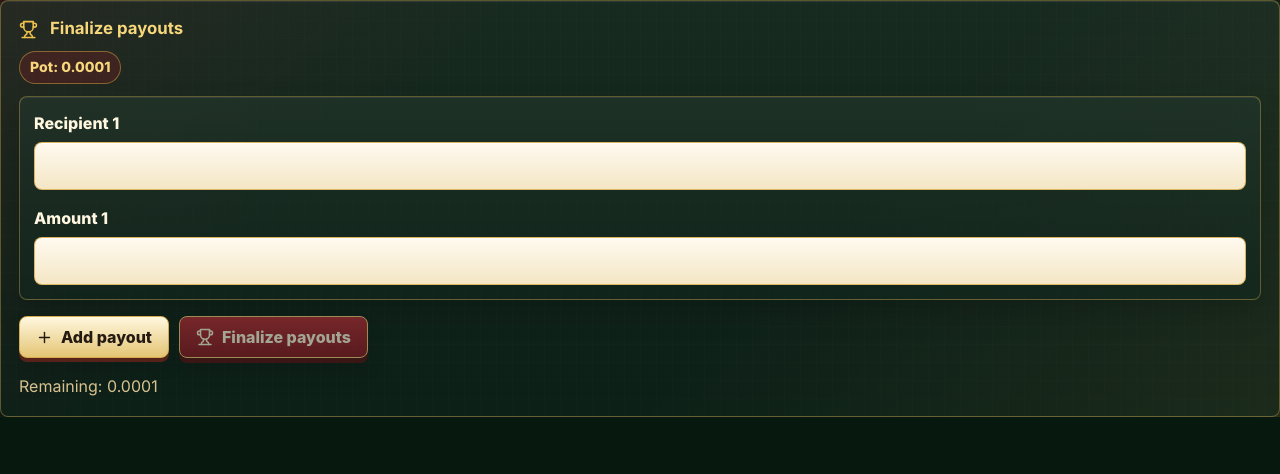
Scenario: FinalizeForm › shows an error when an ENS payout recipient cannot be resolved
Step 1. Type "missing.eth" into the field labelled "Recipient 1" → (640, 166), box [34, 142, 1246, 190]
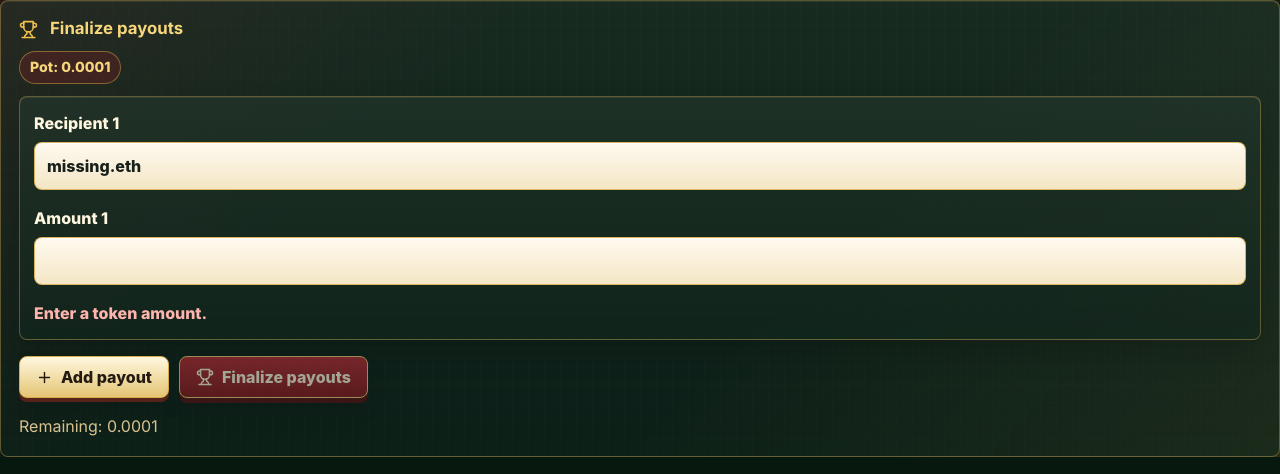
Step 2. Type "0.0001" into the field labelled "Amount 1" → (640, 261), box [34, 237, 1246, 285]
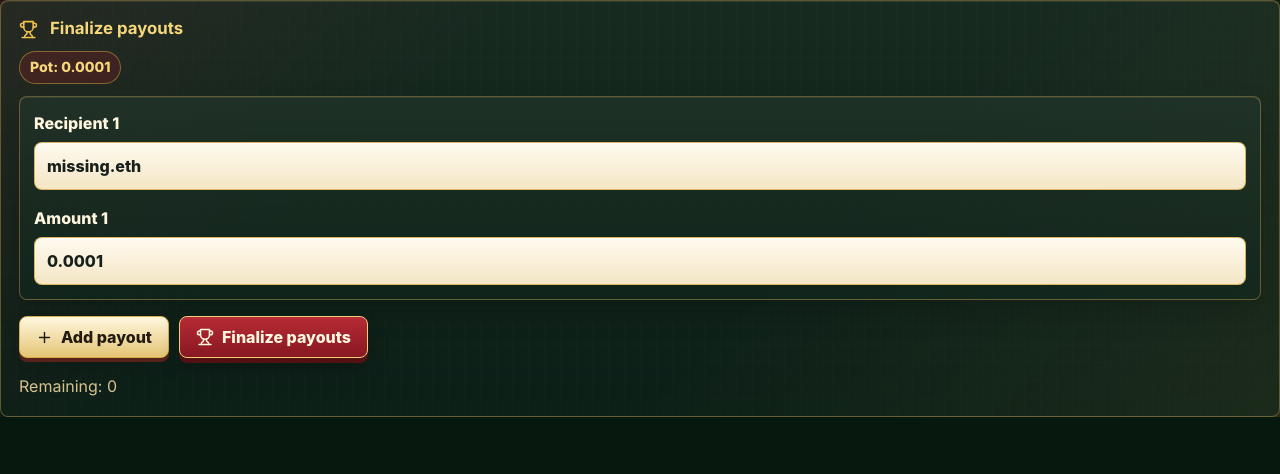
Step 3. Click the button "Finalize payouts" → (273, 337), box [179, 316, 368, 358]
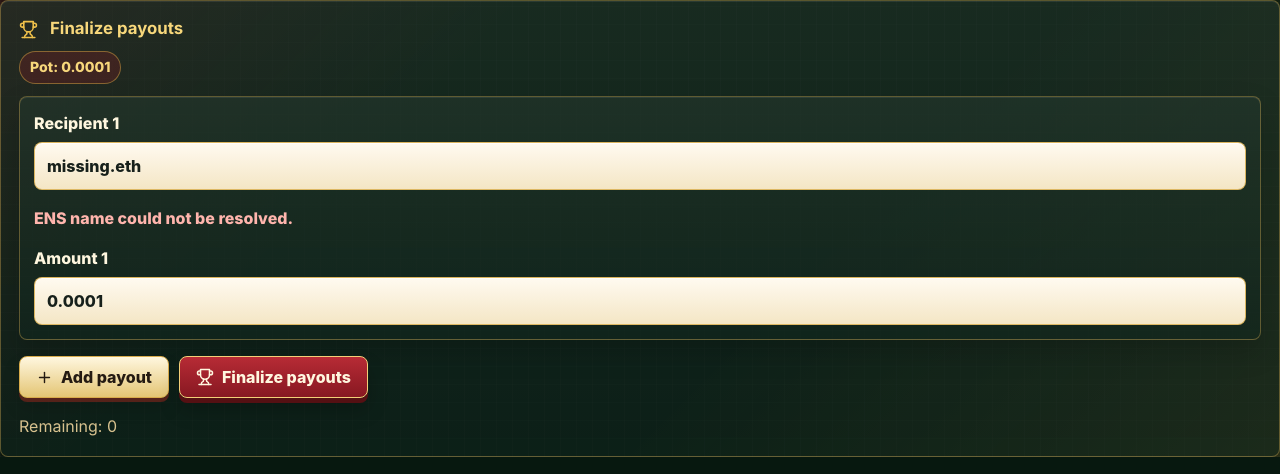
Expected: the message reads "ENS name could not be resolved.", [34, 208, 293, 228]
